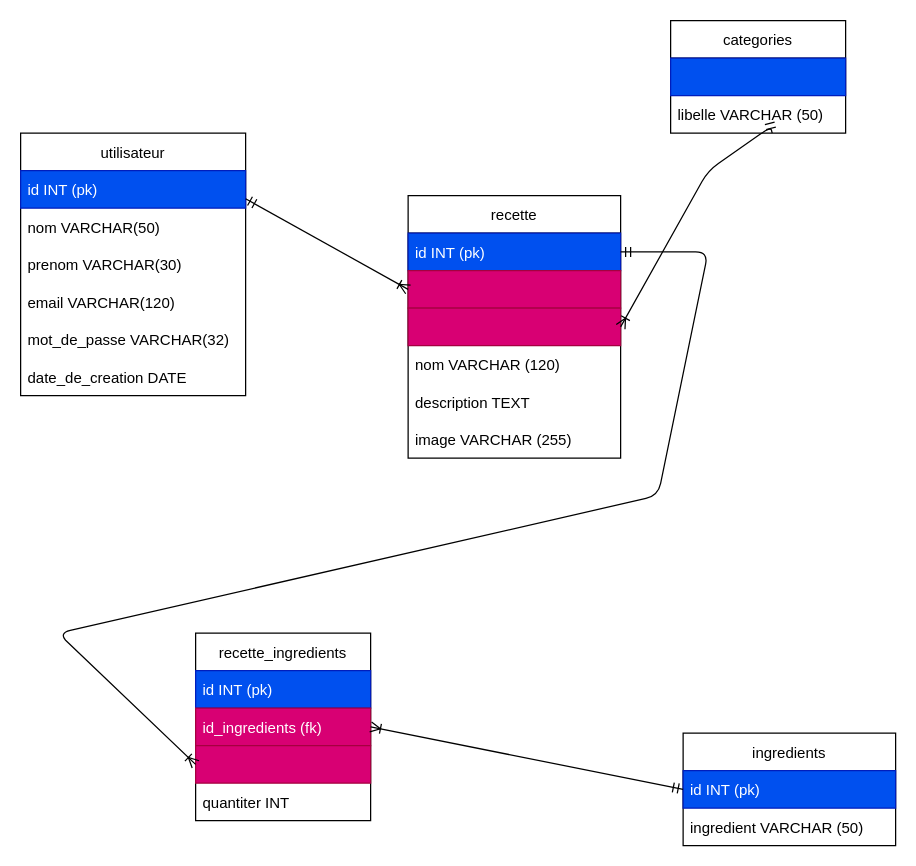
This 916x866 diagram has some shape labels left out. Each missing label, with the centre of its shape:
categorie_id INT (fk): (514,326)
id_categorie INT (pk): (757,76)
id_recette (fk): (282,763)
utilisateur_id (fk): (514,288)
